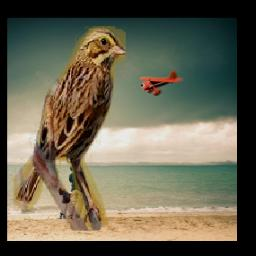Sparrow: (13, 26, 125, 231)
